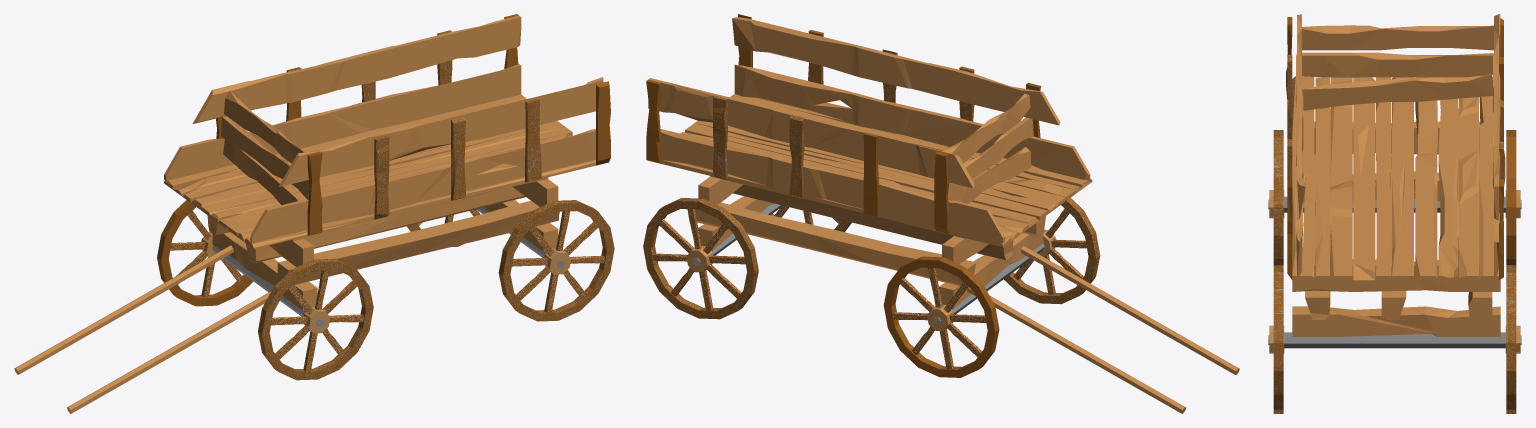
Rendered from Cart.fbx.
3 views of the same model, side by side, from view 1: azimuth 30°, elevation 25°; view 2: azimuth 150°, elevation 25°; view 3: azimuth 270°, elevation 25° (orthographic). The views are drawn at different scales.
Parts seen in each view (by area): view 1: Group47, Group50, Group55, Group51, Group52, Group23, Group28, Group46, Group4, Group31, Group26, Group3 (+23 smaller); view 2: Group51, Group55, Group50, Group47, Group45, Group17, Group34, Group46, Group4, Group20, Group37, Group62 (+22 smaller); view 3: Group13, Group59, Group60, Group58, Group9, Group11, Group6, Group4, Group8, Group7, Group10, Group15 (+24 smaller).
Boxes of the visible parts, <box> form: Group47: <box>192,15,521,123</box>; Group50: <box>164,64,521,180</box>; Group55: <box>250,129,595,243</box>; Group51: <box>278,77,603,186</box>; Group52: <box>277,200,559,284</box>; Group23: <box>498,200,614,321</box>; Group28: <box>258,258,373,380</box>; Group46: <box>245,186,525,263</box>; Group4: <box>201,121,565,216</box>; Group31: <box>271,270,364,371</box>; Group26: <box>512,211,604,312</box>; Group3: <box>210,127,572,222</box>; Group51: <box>732,17,1060,125</box>; Group55: <box>734,64,1090,180</box>; Group50: <box>660,129,1004,243</box>; Group47: <box>648,78,974,188</box>; Group45: <box>695,202,976,287</box>; Group17: <box>643,198,758,319</box>; Group34: <box>883,256,999,377</box>; Group46: <box>733,184,1013,259</box>; Group4: <box>685,123,1049,220</box>; Group20: <box>652,209,745,310</box>; Group37: <box>893,268,986,369</box>; Group62: <box>1021,246,1239,374</box>; Group13: <box>1292,306,1500,336</box>; Group59: <box>1302,52,1493,77</box>; Group60: <box>1302,25,1493,50</box>; Group58: <box>1302,74,1492,110</box>; Group9: <box>1353,77,1375,280</box>; Group11: <box>1330,77,1352,280</box>; Group6: <box>1415,100,1437,280</box>; Group4: <box>1392,77,1413,280</box>; Group8: <box>1459,97,1478,280</box>; Group7: <box>1438,98,1458,280</box>; Group10: <box>1292,76,1314,280</box>; Group15: <box>1284,332,1505,348</box>.
Bounding box in the file's own units: 2817 × 1140 × 1030.
